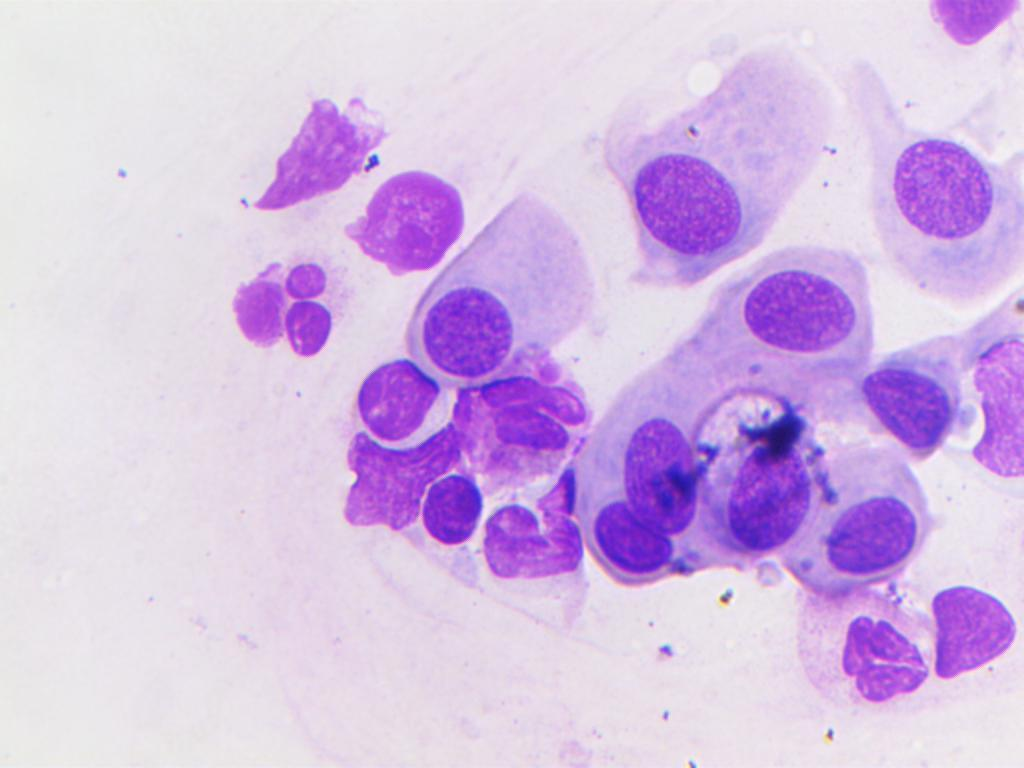artifact: (248, 84, 378, 208), (349, 166, 482, 274), (486, 476, 598, 587), (329, 434, 423, 538), (838, 618, 925, 705)
epithelial: (842, 58, 1022, 302), (605, 108, 751, 286), (722, 386, 812, 562), (724, 250, 872, 350), (809, 479, 930, 579), (857, 349, 960, 464), (613, 412, 701, 533), (414, 281, 519, 376), (933, 577, 1018, 692), (597, 502, 690, 588), (421, 473, 487, 544)
goblet_cell: (348, 342, 483, 436), (453, 374, 596, 462)
neutrophil: (230, 254, 351, 363)
